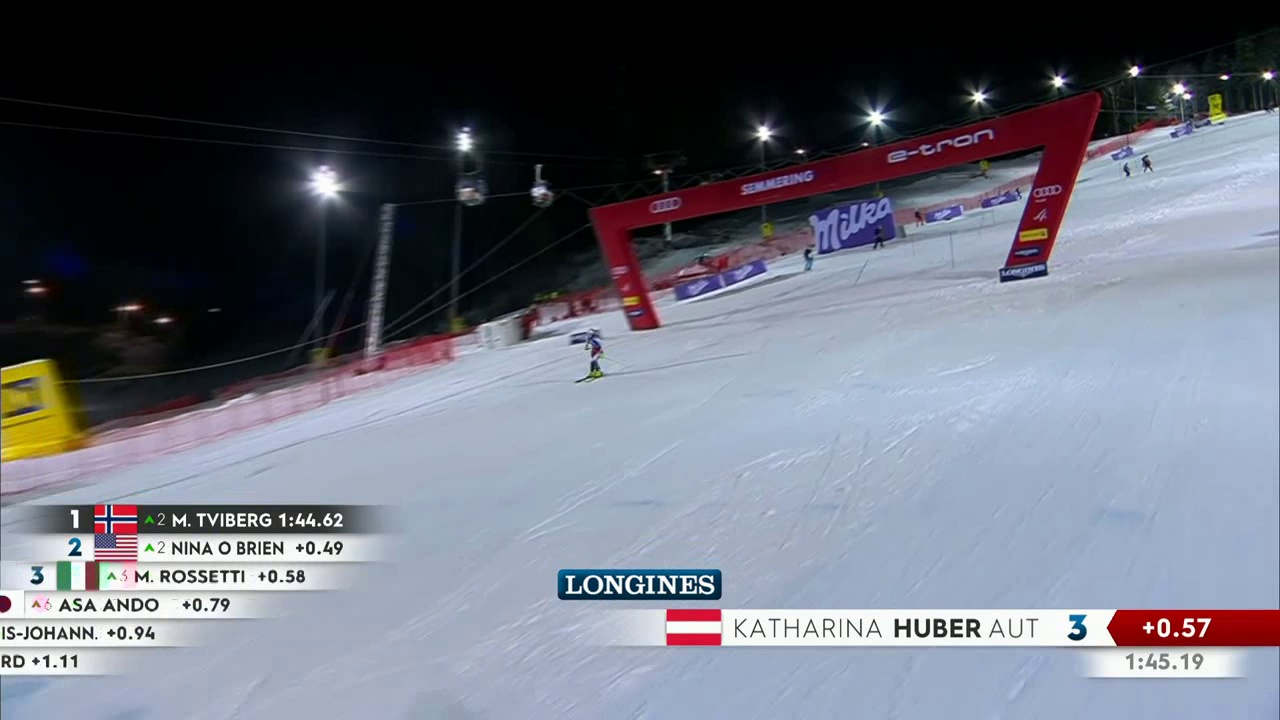audi: (645, 195, 684, 218)
etron: (884, 127, 996, 165)
longines: (544, 567, 729, 604)
milka: (811, 200, 900, 253)
